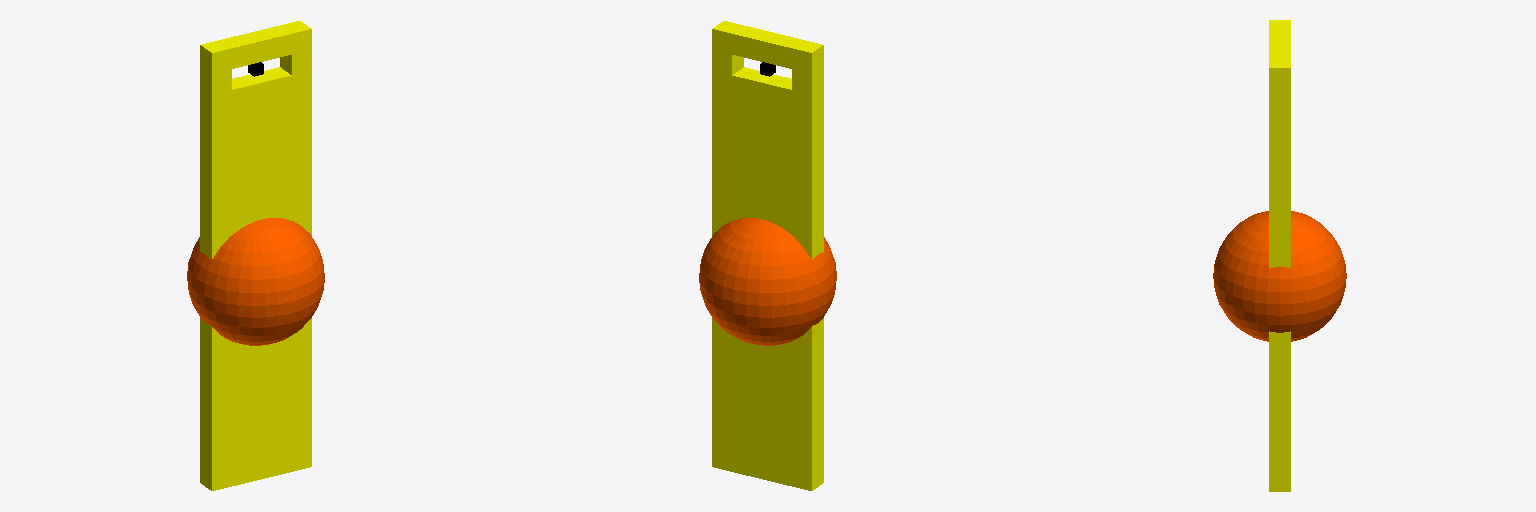
URDF robot description (box_dummy):
<?xml version="1.0"?>
<robot name="box_dummy">
  <material name="black">
    <color rgba="0.0 0.0 0.0 1.0"/>
  </material>
  <material name="orange">
    <color rgba="1.0 0.4 0.0 1.0"/>
  </material>
  <material name="transparency">
    <color rgba="0 0 0 0"/>
  </material>

  <material name="yellow">
    <color rgba="1 1 0 1"/>
  </material>



  <!-- set base pose -->
  <link name="_base">
    <visual>
        <geometry>
            <sphere radius="0.03"/>
        </geometry>
        <origin rpy="0 0 0" xyz="0 0 0"/>
        <material name="orange"/>
    </visual>
  </link>

  <joint name="base_point" type="fixed">
    <origin rpy="0 0 0" xyz="0 0 0"/>
    <parent link="_base"/>
    <child link="base"/>
  </joint>

  

  <link name="base">
    <visual>
        <geometry>
            <box size="0.05 0.01 0.19"/>
        </geometry>
        <origin rpy="0 0 0" xyz="0 0 0"/>
        <material name="yellow">
            <color rgba="1 1 0 1"/>
        </material>
    </visual>
    <collision>
        <geometry>
          <box size="0.05 0.01 0.19"/>
        </geometry>
        <origin rpy="0 0 0" xyz="0 0 0"/>
    </collision>
    <inertial>
      <origin rpy="0 0 0" xyz="0 0 0"/>
       <mass value="0.01"/>
       <inertia ixx="1" ixy="0" ixz="0" iyy="1" iyz="0" izz="1"/>     
    </inertial>
    <surface>
        <friction>
          <ode>
            <mu>100000.0</mu>
            <mu2>100000.0</mu2>
          </ode>
        </friction>
        <contact>
          <ode>                                                          
            <min_depth>0.003</min_depth>
          </ode>
        </contact>
      </surface>
  </link>
  
  
  
 

  <!-- gripper contact point -->
  <link name="tool">
    <inertial>
      <mass value="0.0"/>
      <origin rpy="0 0 0" xyz="0.0 0.0 0.0"/>
      <inertia ixx="0.0" ixy="0.0" ixz="0.0" iyy="0.0" iyz="0.0" izz="0.0"/>
    </inertial>
    <visual>
      <geometry>
        <box size="0.005 0.005 0.005"/>
      </geometry>
      <origin rpy="0 0 0" xyz="0 0 0"/>
       <!-- set contact point color -->
      <material name="transparency"/>
    </visual>
  </link>
  <!-- set gripper contact point -->
  <joint name="hole_point" type="fixed">
    <!-- origin rpy="0 0 0" xyz="0 -0.3 -0.0165" -->
    <origin rpy="0 0 0" xyz="0 0 0.1"/>
    <parent link="base"/>
    <child link="tool"/>
  </joint>




  <link name="left_fillar">
   <visual>
        <geometry>
            <box size="0.01 0.01 0.01"/>
        </geometry>
        <origin rpy="0 0 0" xyz="0 0 0"/>
        <material name="yellow">
            <color rgba="1 1 0 1"/>
        </material>
    </visual>
    <collision>
        <geometry>
          <box size="0.01 0.01 0.01"/>
        </geometry>
        <origin rpy="0 0 0" xyz="0 0 0"/>
    </collision>
    <inertial>
      <origin rpy="0 0 0" xyz="0 0 0"/>
       <mass value="0.01"/>
       <inertia ixx="1" ixy="0" ixz="0" iyy="1" iyz="0" izz="1"/>       
    </inertial>
    <surface>
        <friction>
          <ode>
            <mu>100000.0</mu>
            <mu2>100000.0</mu2>
          </ode>
        </friction>
        <contact>
          <ode>
            <min_depth>0.003</min_depth>
          </ode>
        </contact>
      </surface>
  </link>

  

  <joint name="base_to_left_fillar" type="fixed">
    <parent link="base"/>
    <child link="left_fillar"/>
    <origin rpy="0 0 0" xyz="0.02 0 0.1"/>
  </joint>

  <link name="right_fillar">
   <visual>
        <geometry>
            <box size="0.01 0.01 0.01"/>
        </geometry>
        <origin rpy="0 0 0" xyz="0 0 0"/>
        <material name="yellow">
            <color rgba="1 1 0 1"/>
        </material>
    </visual>
    <collision>
        <geometry>
          <box size="0.01 0.01 0.01"/>
        </geometry>
        <origin rpy="0 0 0" xyz="0 0 0"/>
    </collision>
    <inertial>
      <origin rpy="0 0 0" xyz="0 0 0"/>
       <mass value="0.01"/>
       <inertia ixx="1" ixy="0" ixz="0" iyy="1" iyz="0" izz="1"/>       
    </inertial>
    <surface>
        <friction>
          <ode>
            <mu>100000.0</mu>
            <mu2>100000.0</mu2>
          </ode>
        </friction>
        <contact>
          <ode>
            <min_depth>0.003</min_depth>
          </ode>
        </contact>
      </surface>
  </link>

  <joint name="base_to_right_fillar" type="fixed">
    <parent link="base"/>
    <child link="right_fillar"/>
    <origin rpy="0 0 0" xyz="-0.02 0 0.1"/>
  </joint>

  <link name="top_fillar">
   <visual>
        <geometry>
            <box size="0.05 0.01 0.01"/>
        </geometry>
        <origin rpy="0 0 0" xyz="0 0 0"/>
        <material name="yellow">
            <color rgba="1 1 0 1"/>
        </material>
    </visual>
    <collision>
        <geometry>
         <box size="0.05 0.01 0.01"/>
        </geometry>
        <origin rpy="0 0 0" xyz="0 0 0"/>
    </collision>
    <inertial>
      <origin rpy="0 0 0" xyz="0 0 0"/>
       <mass value="0.01"/>
       <inertia ixx="1" ixy="0" ixz="0" iyy="1" iyz="0" izz="1"/>     
    </inertial>
    <surface>
        <friction>
          <ode>
            <mu>100000.0</mu>
            <mu2>100000.0</mu2>
          </ode>
        </friction>
        <contact>
          <ode>
            <min_depth>0.003</min_depth>
          </ode>
        </contact>
      </surface>
  </link>

  <joint name="base_to_top_fillar" type="fixed">
    <parent link="base"/>
    <child link="top_fillar"/>
    <origin rpy="0 0 0" xyz="0 0 0.11"/>
  </joint>

</robot>

--- What the picture shows (computed from the rendered views, not written in the file) ---
The picture shows the robot from 3 angles, left to right: view 1: azimuth 30°, elevation 25°; view 2: azimuth 150°, elevation 25°; view 3: azimuth 270°, elevation 25°; orthographic projection.
Model box_dummy with 6 links and 5 joints (5 fixed), rooted at _base, posed every joint at zero.
Visible links, largest first — view 1: base, _base, top_fillar, right_fillar, left_fillar; view 2: base, _base, top_fillar, right_fillar, left_fillar; view 3: _base, base, top_fillar.
Link boxes in pixels (bbox=[...]): base: bbox=[200, 67, 311, 490]; _base: bbox=[187, 218, 324, 345]; top_fillar: bbox=[200, 21, 311, 73]; right_fillar: bbox=[200, 66, 231, 94]; left_fillar: bbox=[280, 50, 311, 74]; base: bbox=[712, 67, 823, 490]; _base: bbox=[699, 218, 836, 345]; top_fillar: bbox=[712, 21, 823, 73]; right_fillar: bbox=[792, 66, 823, 94]; left_fillar: bbox=[712, 50, 743, 74]; _base: bbox=[1213, 211, 1346, 341]; base: bbox=[1269, 108, 1290, 491]; top_fillar: bbox=[1269, 20, 1290, 87].
Bounding box of the posed robot: 0.06 × 0.06 × 0.21 m (x, y, z).
Geometry: primitives only (box / cylinder / sphere), no mesh files.